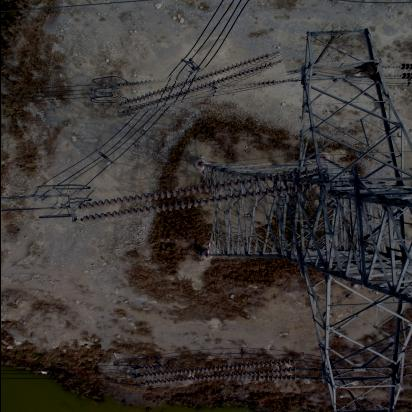insulator: (69, 172, 330, 220), (113, 60, 287, 110), (140, 358, 306, 386)
